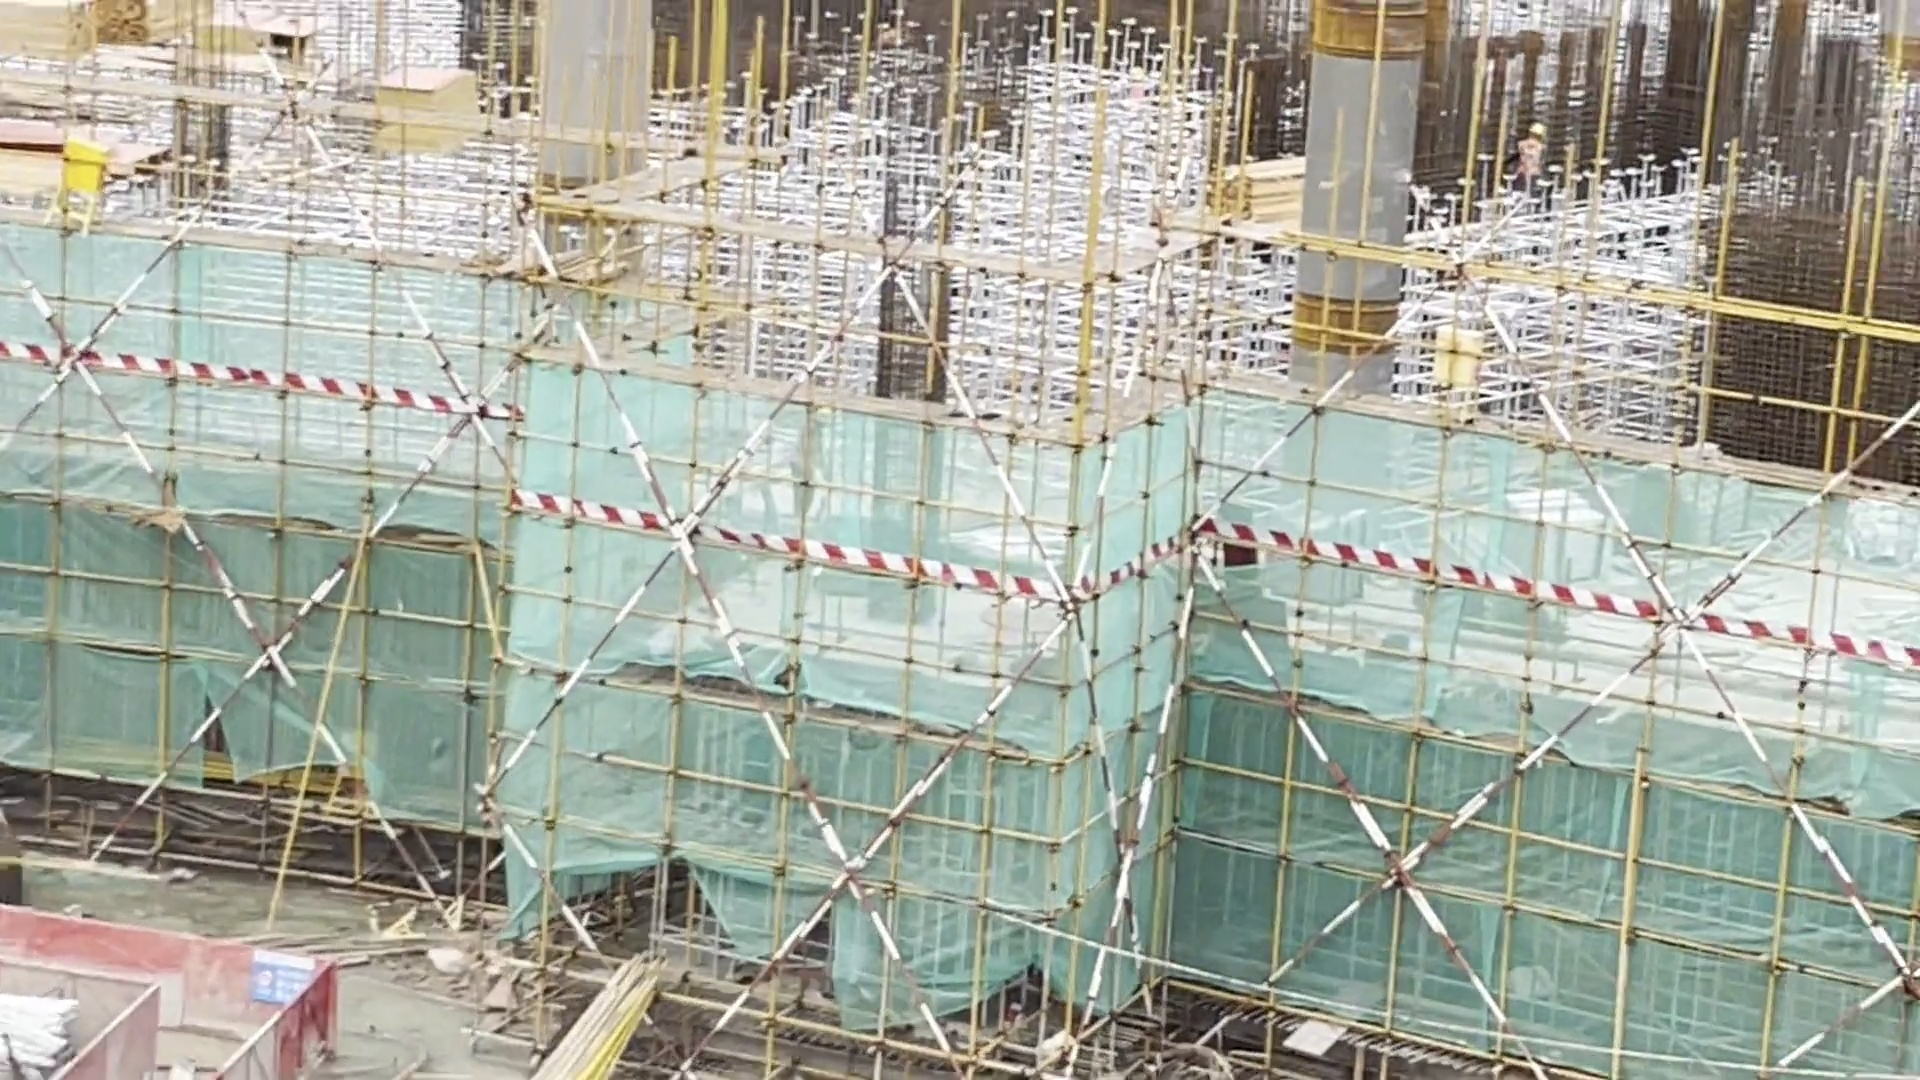ebox: (50, 132, 136, 222)
fence: (13, 895, 336, 1080)
helmet: (1517, 113, 1559, 146)
person: (1522, 113, 1580, 216)
slogan: (231, 943, 306, 1000)
